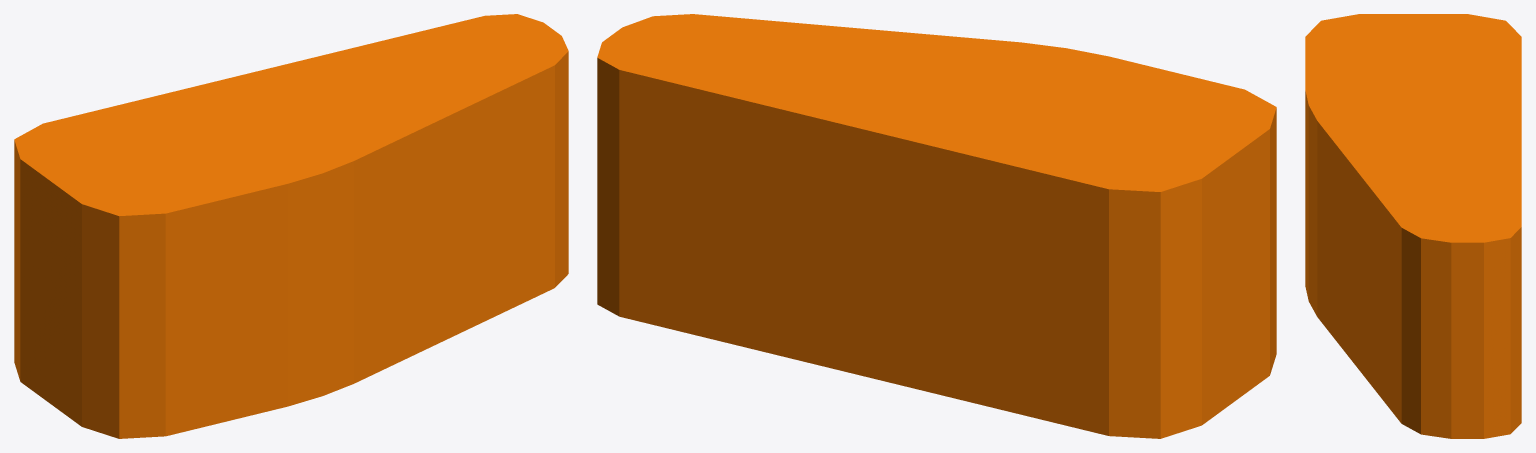
Rendered from tri_orangeFlipper.obj.
The picture shows the model from 3 angles, left to right: view 1: azimuth 30°, elevation 25°; view 2: azimuth 150°, elevation 25°; view 3: azimuth 270°, elevation 25°; orthographic projection. The views are drawn at different scales.
Parts seen in each view (by area): view 1: Cube; view 2: Cube; view 3: Cube.
Part boxes in pixels (box(x1,y1,x2,y2)): Cube: box(14, 14, 568, 438); Cube: box(597, 14, 1276, 438); Cube: box(1305, 14, 1521, 438).
Bounding box in the file's own units: 1 × 0.4 × 0.4.
